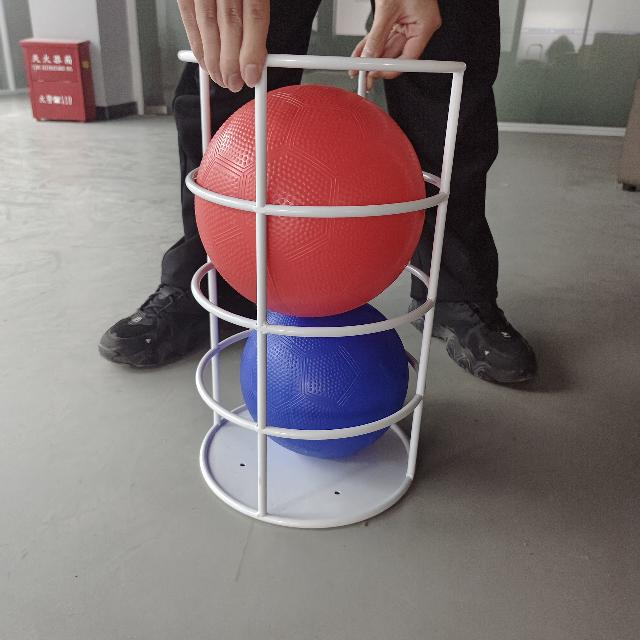B: (173, 36, 471, 538), (238, 313, 410, 461)
R: (200, 78, 430, 312)
